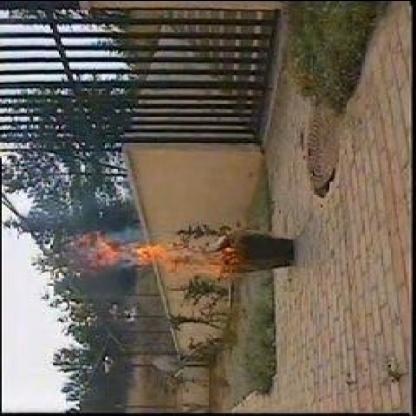foggia-v2-map80-epoch100 - v1 4323: (86, 238, 249, 270)
